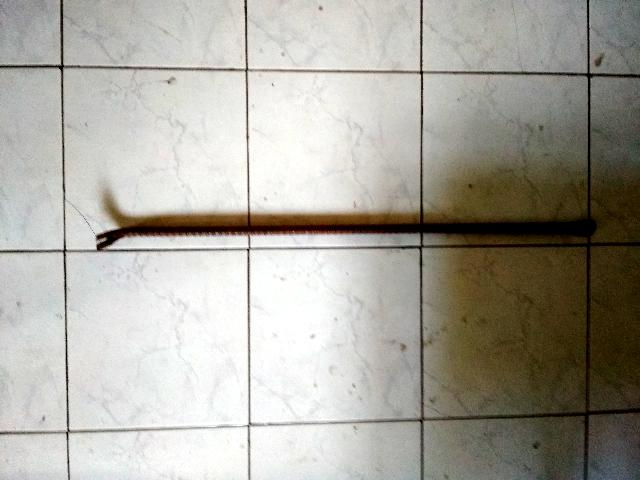crow bar: (77, 215, 598, 268)
